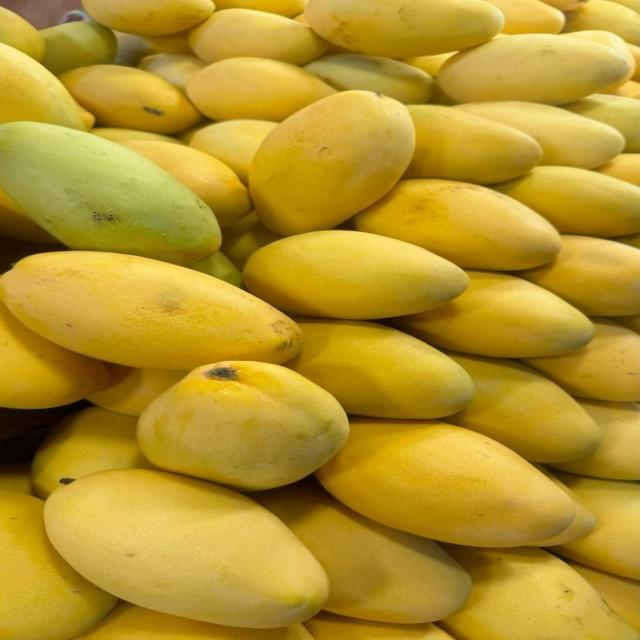mango: (45, 469, 327, 628), (0, 252, 301, 371), (316, 418, 575, 547), (253, 480, 470, 624), (0, 123, 220, 265), (138, 361, 348, 490), (250, 91, 414, 235), (244, 230, 468, 319), (355, 180, 560, 270), (287, 319, 473, 418), (441, 546, 638, 639), (443, 352, 601, 462), (0, 488, 115, 639), (394, 271, 593, 358), (438, 34, 628, 104), (453, 101, 625, 168), (305, 0, 503, 58), (0, 303, 107, 408), (123, 141, 252, 228), (33, 407, 153, 499), (405, 105, 542, 184), (494, 166, 639, 237), (517, 236, 639, 316), (60, 65, 201, 133), (187, 57, 335, 121), (524, 319, 639, 401), (554, 473, 639, 580), (74, 601, 313, 639), (189, 9, 327, 65), (0, 43, 86, 131), (552, 400, 639, 480), (305, 54, 433, 104), (189, 120, 277, 183), (530, 465, 596, 546), (566, 561, 639, 632), (87, 364, 186, 416), (82, 0, 215, 36), (564, 94, 639, 153), (565, 30, 635, 92), (40, 21, 117, 75), (305, 611, 453, 639), (222, 213, 281, 270), (565, 0, 639, 45), (0, 189, 59, 243), (487, 0, 565, 34), (139, 53, 206, 91), (0, 7, 45, 61), (0, 236, 65, 273), (615, 242, 640, 333), (191, 252, 243, 287), (114, 31, 159, 66), (90, 127, 181, 144), (216, 0, 306, 17), (595, 154, 639, 186), (400, 52, 456, 77), (145, 29, 192, 54), (0, 463, 33, 494), (175, 119, 213, 144), (602, 81, 639, 98), (540, 0, 588, 11), (77, 103, 95, 131), (627, 43, 639, 81), (614, 233, 639, 248), (611, 0, 639, 13)
